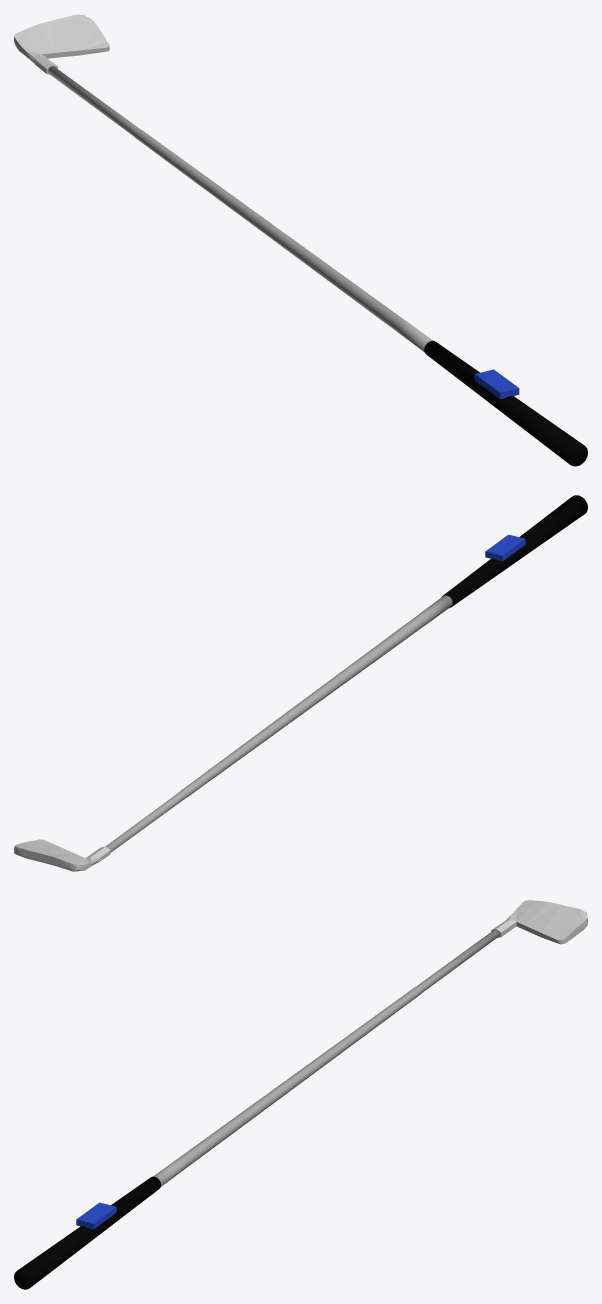
File: golf_club.obj
3 views of the same model, one above another, from view 1: azimuth 30°, elevation 25°; view 2: azimuth 150°, elevation 25°; view 3: azimuth 330°, elevation 25° (orthographic). The views are drawn at different scales.
Parts seen in each view (by area): view 1: Shaft_Circle.002, Grip_Circle.004, Clubhead_Cube.004, Cube_Cube.006; view 2: Shaft_Circle.002, Grip_Circle.004, Clubhead_Cube.004, Cube_Cube.006; view 3: Shaft_Circle.002, Grip_Circle.004, Clubhead_Cube.004, Cube_Cube.006.
Part boxes in pixels (x1,y1,x2,y2): Shaft_Circle.002: (48,66,432,351); Grip_Circle.004: (424,340,587,466); Clubhead_Cube.004: (14,14,109,74); Cube_Cube.006: (474,369,519,399); Shaft_Circle.002: (105,595,452,852); Grip_Circle.004: (442,495,587,608); Clubhead_Cube.004: (14,839,110,871); Cube_Cube.006: (485,534,525,561); Shaft_Circle.002: (153,929,499,1186); Grip_Circle.004: (14,1176,160,1289); Clubhead_Cube.004: (491,900,587,944); Cube_Cube.006: (76,1202,116,1229).
Size of the model in its own units: 0.0818 by 0.0251 by 0.9756.
